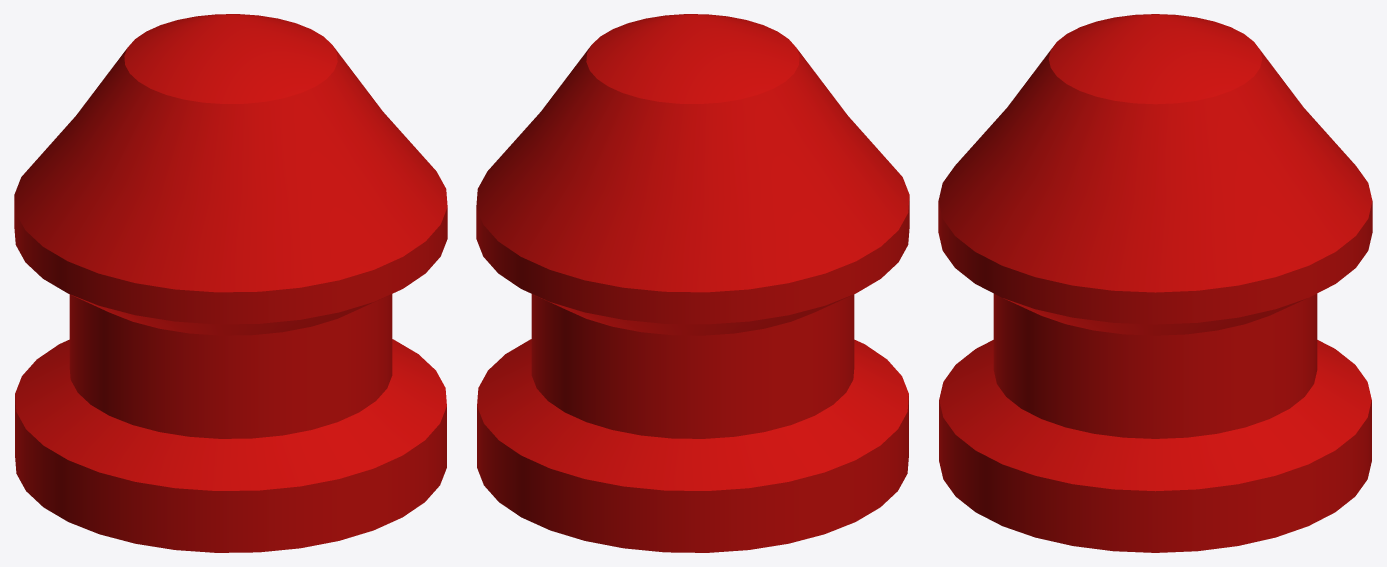
The model's file is piece.obj.
3 views of the same model, side by side, from view 1: azimuth 30°, elevation 25°; view 2: azimuth 150°, elevation 25°; view 3: azimuth 270°, elevation 25° (orthographic).
Visible parts, largest first — view 1: Cylinder; view 2: Cylinder; view 3: Cylinder.
Boxes of the visible parts, <box> form: Cylinder: <box>14,14,447,552</box>; Cylinder: <box>476,14,909,552</box>; Cylinder: <box>938,14,1372,552</box>.
Bounding box in the file's own units: 0.5369 × 0.6092 × 0.5369.
